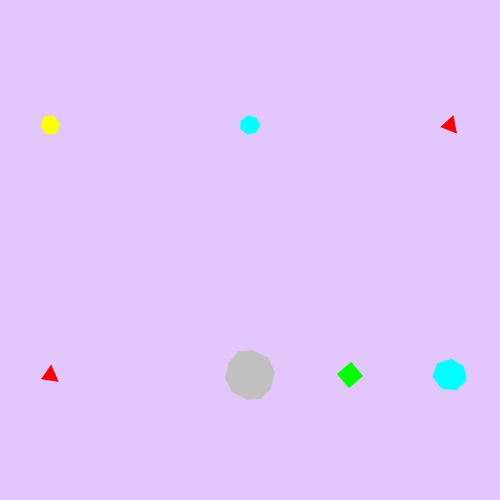decagon: (221, 348, 280, 402)
heptagon: (430, 355, 471, 395), (236, 111, 265, 139)
hexagon: (35, 112, 65, 138)
quadrilateral: (333, 358, 367, 392)
triangle: (438, 112, 463, 138), (38, 362, 63, 388)
